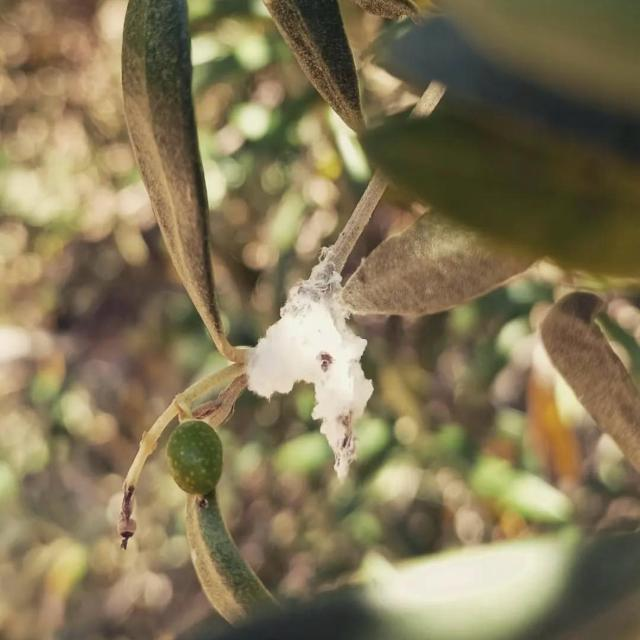Psyllid: (246, 243, 373, 479)
